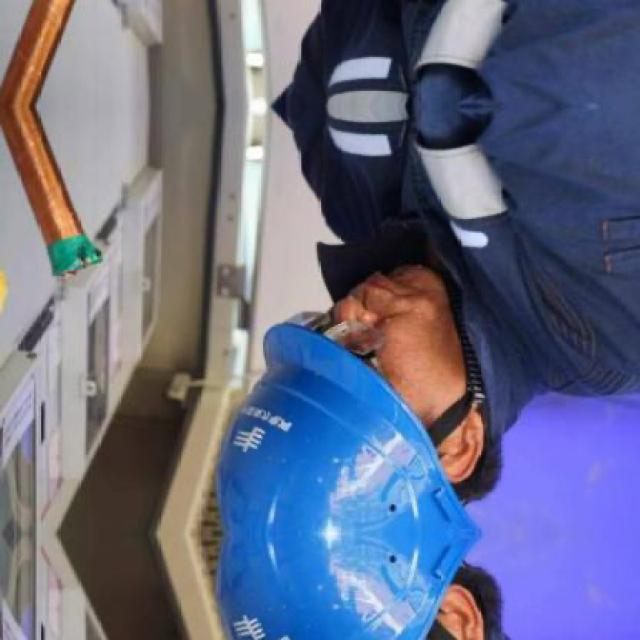con casco: (200, 352, 480, 635)
